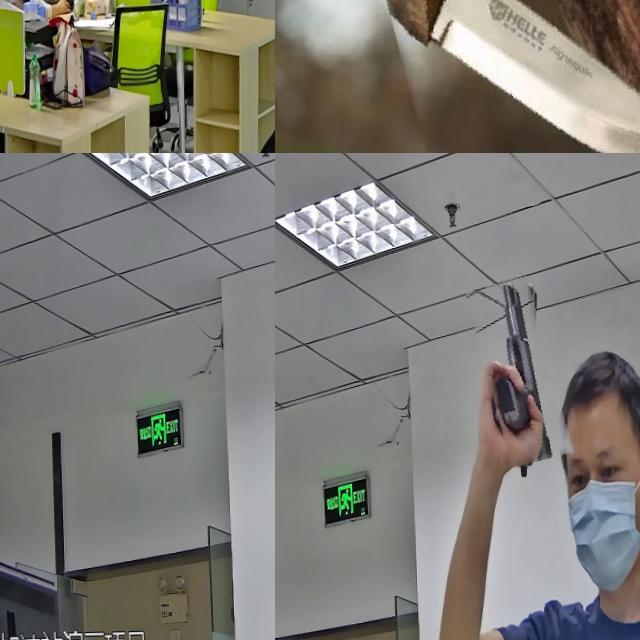-: (384, 0, 640, 153)
gun-knife-thesis - v11 Yolov5 augmented: (474, 280, 562, 468)
